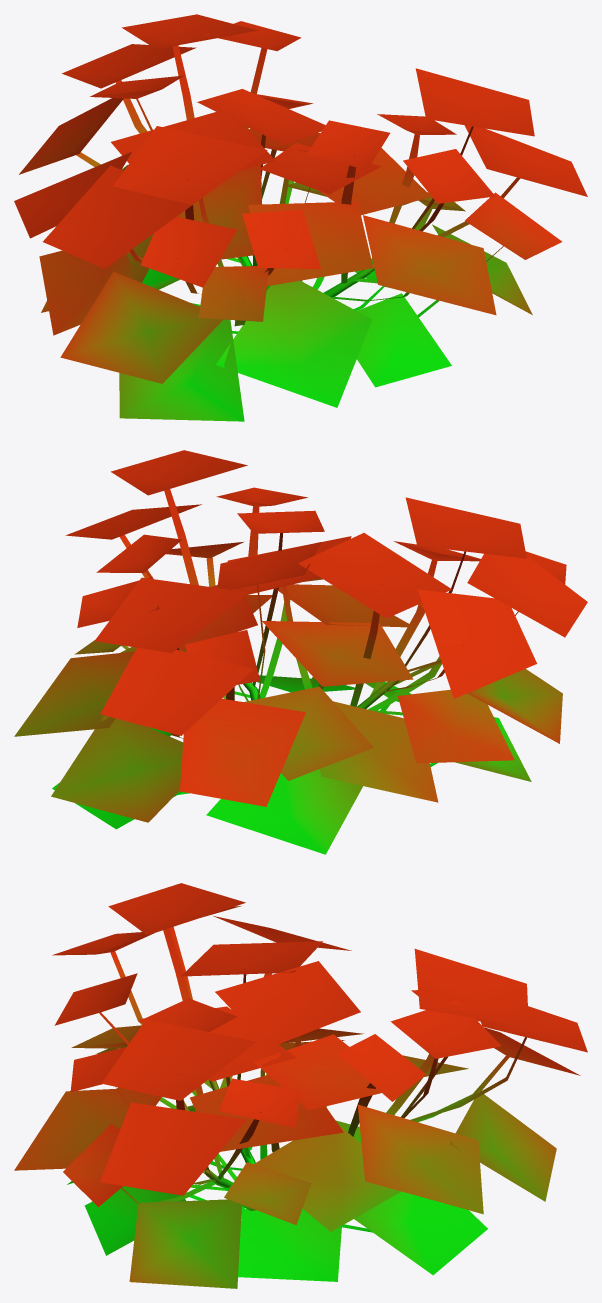
The model's file is Var10_LOD2.fbx.
3 views of the same model, one above another, from view 1: azimuth 30°, elevation 25°; view 2: azimuth 150°, elevation 25°; view 3: azimuth 270°, elevation 25° (orthographic).
Parts seen in each view (by area): view 1: _e0fc_Var10_LOD2; view 2: _e0fc_Var10_LOD2; view 3: _e0fc_Var10_LOD2.
Part boxes in pixels (left/top/right/bottom): _e0fc_Var10_LOD2: left=14, top=14, right=587, bottom=421; _e0fc_Var10_LOD2: left=14, top=450, right=587, bottom=854; _e0fc_Var10_LOD2: left=14, top=883, right=587, bottom=1288.
Size of the model in its own units: 46.78 by 22.81 by 45.23.
